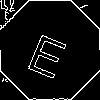E: (25, 25, 73, 80)
